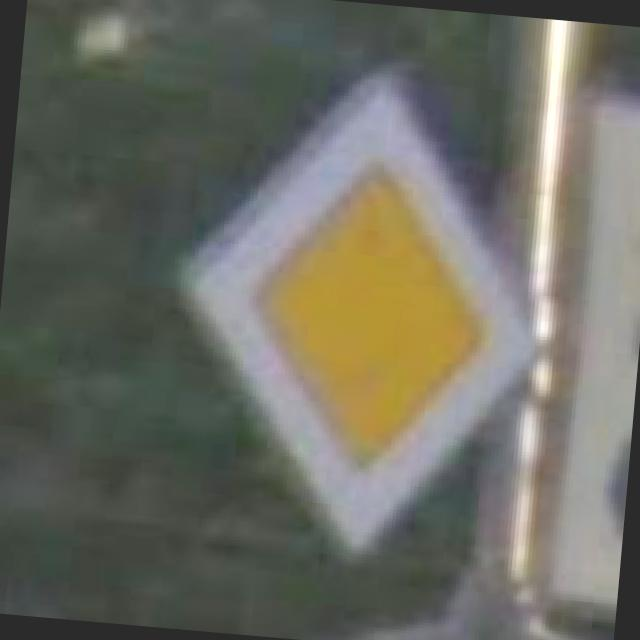Droga z pierwszenstwem: (153, 54, 561, 574)
